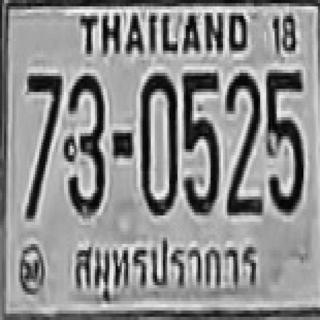N00: (139, 70, 177, 212)
N02: (226, 70, 261, 212)
N03: (62, 71, 103, 214)
N05: (264, 68, 301, 211), (182, 70, 217, 212)
N07: (24, 71, 61, 217)
P57: (72, 226, 262, 305)
